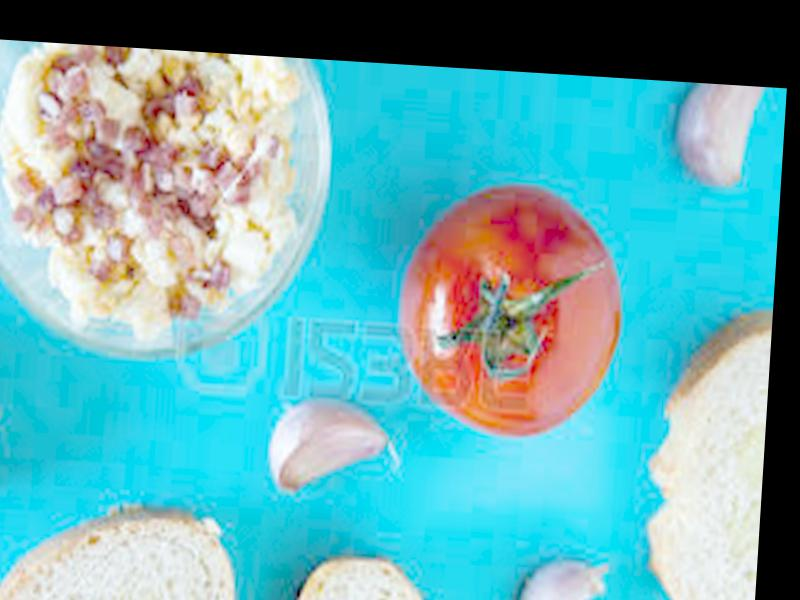Tomato: (401, 179, 629, 445)
